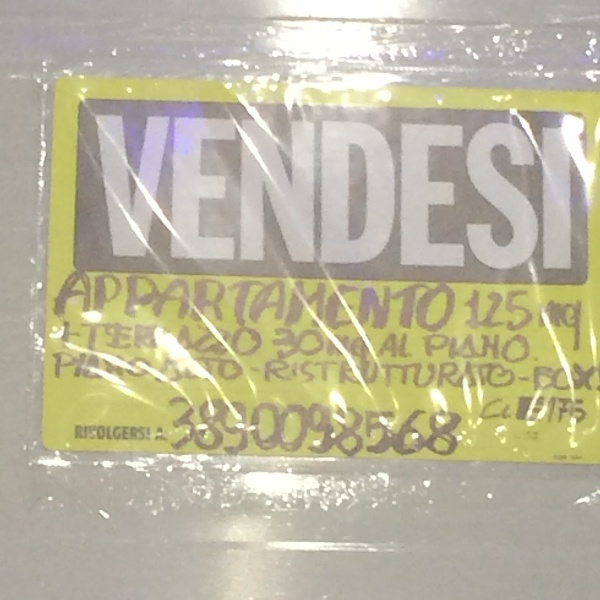text: (97, 114, 112, 273), (113, 114, 128, 273), (129, 114, 144, 273), (145, 114, 160, 273), (161, 114, 176, 273), (177, 114, 192, 273), (193, 114, 208, 273), (209, 114, 224, 273), (225, 114, 240, 273), (241, 114, 256, 273), (257, 114, 272, 273), (273, 114, 288, 273), (289, 114, 304, 273), (305, 114, 320, 273), (321, 114, 336, 273), (337, 114, 352, 273), (353, 114, 368, 273), (369, 114, 384, 273), (385, 114, 400, 273), (401, 114, 416, 273), (417, 114, 432, 273), (433, 114, 448, 273), (449, 114, 464, 273), (465, 114, 480, 273), (481, 114, 496, 273), (497, 114, 512, 273), (513, 114, 528, 273), (529, 114, 544, 273), (545, 114, 560, 273), (561, 114, 574, 273), (81, 263, 96, 339), (97, 263, 112, 339), (113, 263, 128, 339), (129, 263, 144, 339), (145, 263, 160, 339), (161, 263, 176, 339), (177, 263, 192, 339), (193, 263, 208, 339), (209, 263, 224, 339), (225, 263, 240, 339), (241, 263, 256, 339), (257, 263, 272, 339), (273, 263, 288, 339), (289, 263, 304, 339), (305, 263, 320, 339), (321, 263, 336, 339), (337, 263, 352, 339), (353, 263, 368, 339), (369, 263, 384, 339), (385, 263, 400, 339), (401, 263, 416, 339), (417, 263, 432, 339), (433, 263, 448, 339), (177, 395, 192, 461), (193, 395, 208, 461), (209, 395, 224, 461), (225, 395, 240, 461), (241, 395, 256, 461), (257, 395, 272, 461), (273, 395, 288, 461), (289, 395, 304, 461), (305, 395, 320, 461), (321, 395, 336, 461), (337, 395, 352, 461), (353, 395, 368, 461), (369, 395, 384, 461), (385, 395, 400, 461), (401, 395, 416, 461), (417, 395, 432, 461), (433, 395, 448, 461), (449, 395, 464, 461), (545, 298, 560, 359), (561, 298, 576, 359), (449, 263, 460, 339), (465, 285, 480, 335), (481, 285, 496, 335), (497, 285, 512, 335), (513, 285, 528, 335), (65, 317, 80, 363), (81, 317, 96, 363), (97, 317, 112, 363), (113, 317, 128, 363), (129, 317, 144, 363), (145, 317, 160, 363), (161, 317, 176, 363), (177, 317, 192, 363), (193, 317, 208, 363), (209, 317, 224, 363), (225, 317, 240, 363), (241, 317, 256, 363), (71, 263, 80, 339), (273, 327, 288, 367), (289, 327, 304, 367), (305, 327, 320, 367), (321, 327, 336, 367), (337, 327, 352, 367), (353, 327, 368, 367), (167, 395, 176, 461), (273, 359, 288, 397), (289, 359, 304, 397), (305, 359, 320, 397), (321, 359, 336, 397), (337, 359, 352, 397), (353, 359, 368, 397), (369, 359, 384, 397), (385, 359, 400, 397), (401, 359, 416, 397), (417, 359, 432, 397), (433, 359, 448, 397), (449, 359, 464, 397), (465, 359, 480, 397), (481, 359, 496, 397), (497, 359, 512, 397), (513, 359, 528, 397), (529, 359, 544, 397), (545, 359, 560, 397), (561, 359, 576, 397), (577, 359, 592, 397), (577, 298, 586, 359), (433, 334, 448, 369), (449, 334, 464, 369), (465, 334, 480, 369), (481, 334, 496, 369), (497, 334, 512, 369), (513, 334, 528, 369), (65, 351, 80, 386), (81, 351, 96, 386), (97, 351, 112, 386), (113, 351, 128, 386), (129, 351, 144, 386), (145, 351, 160, 386), (161, 351, 176, 386), (177, 351, 192, 386), (193, 351, 208, 386), (209, 351, 224, 386), (225, 351, 240, 386), (497, 396, 512, 430), (513, 396, 528, 430), (529, 396, 544, 430), (545, 396, 560, 430), (561, 396, 576, 430), (577, 396, 592, 430), (536, 298, 544, 359), (257, 317, 267, 363), (51, 351, 64, 386), (483, 396, 496, 430), (401, 331, 415, 361), (421, 334, 432, 369), (529, 285, 536, 335), (263, 359, 272, 397), (389, 331, 400, 361), (81, 425, 96, 444), (97, 425, 112, 444), (113, 425, 128, 444), (129, 425, 144, 444), (241, 351, 249, 386), (593, 359, 600, 397), (529, 334, 536, 369), (369, 327, 375, 367), (60, 317, 64, 363), (95, 114, 96, 273), (74, 425, 80, 444), (145, 425, 151, 444), (270, 327, 272, 367), (593, 396, 594, 430)
